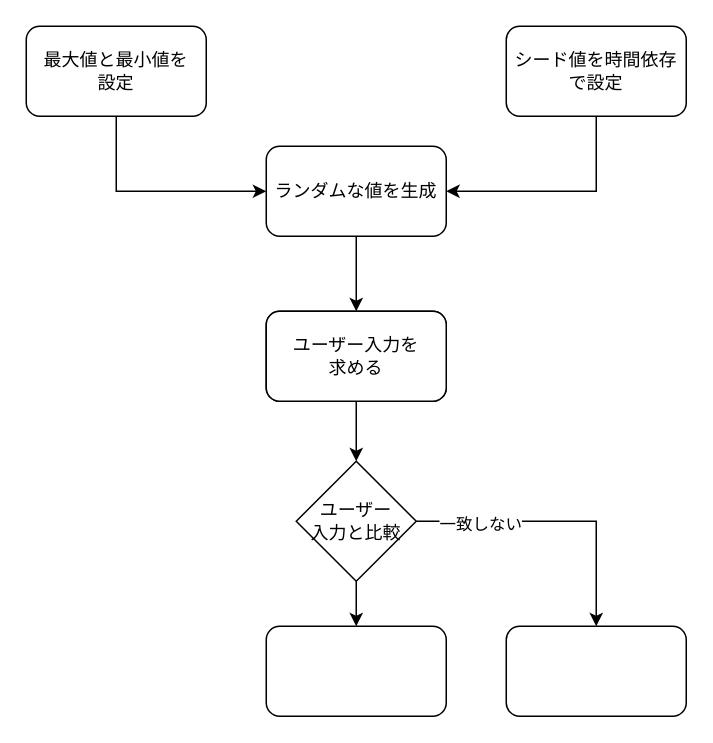
The diagram is 713 pixels wide and 743 high, and some of its shapes have lost their labels. Each missing label, with the centre of its shape:
"correct!" と表示: point (355, 670)
"miss!" と表示: point (595, 670)
